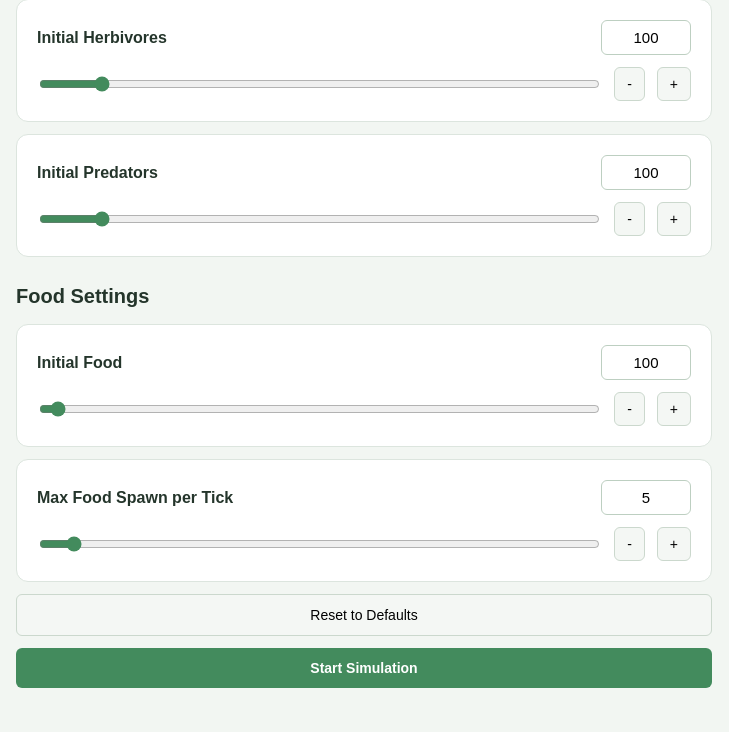
Scenario: ConfigurationPage › clears server field errors when resetting
(page scrolled)
Click the button "Start Simulation": (364,668) 16,648 -> 712,688
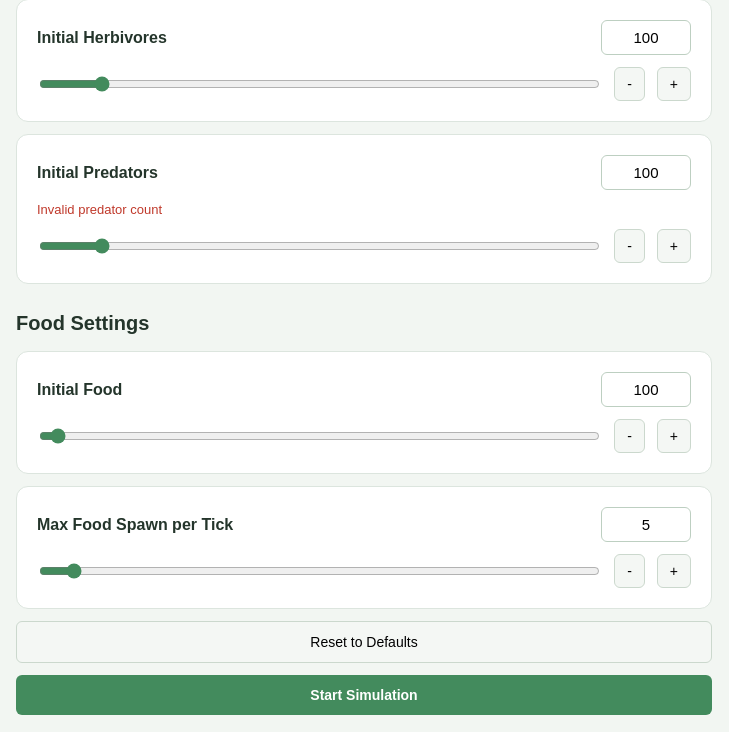
expect the text "Invalid predator count" is shown: met, box 37,202 -> 162,217
Click the button "Reset to Defaults": (364,642) 16,621 -> 712,663
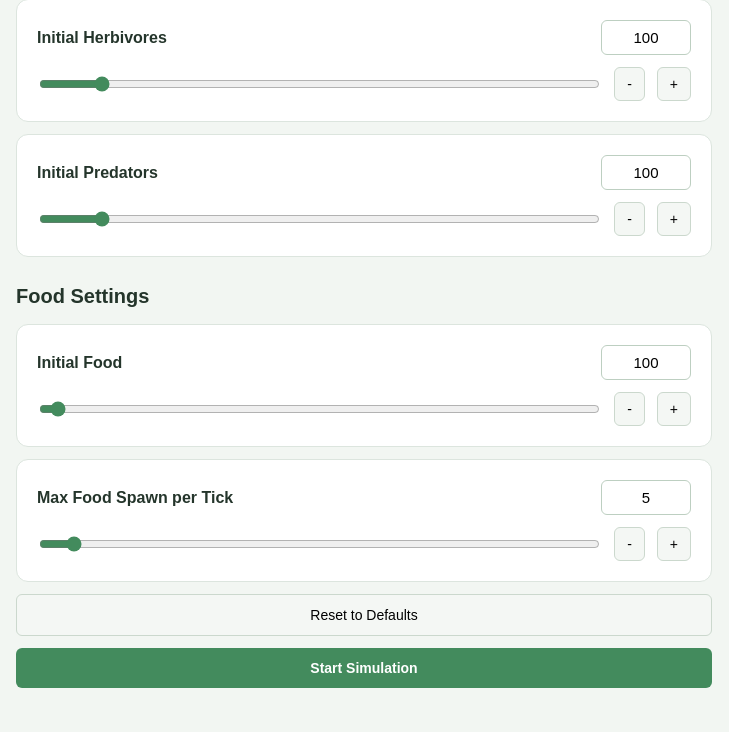
expect the text "Invalid predator count" is gone: met
